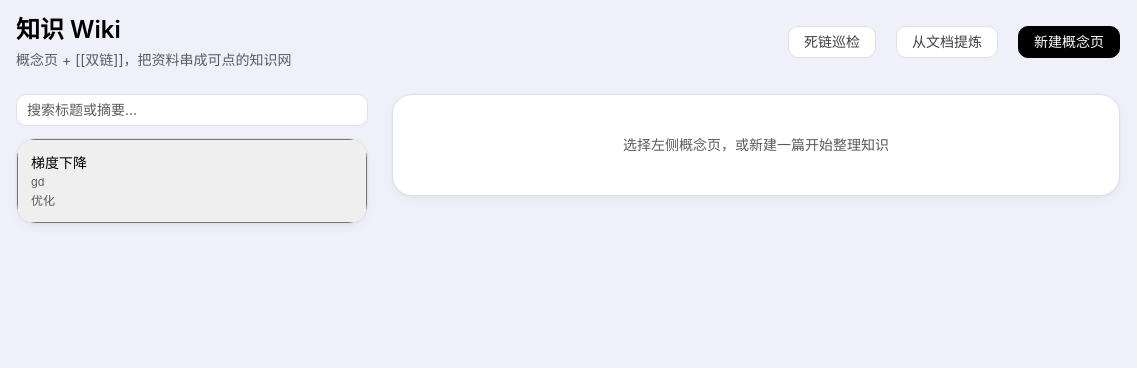
Test: WikiView 5.1 › 渲染列表并打开详情，显示死链
What coordinates should you click on to do the following:
click the button with test id "wiki-item-gd"
I would click on:
 (59, 162)
Its box is [17,139,367,223].
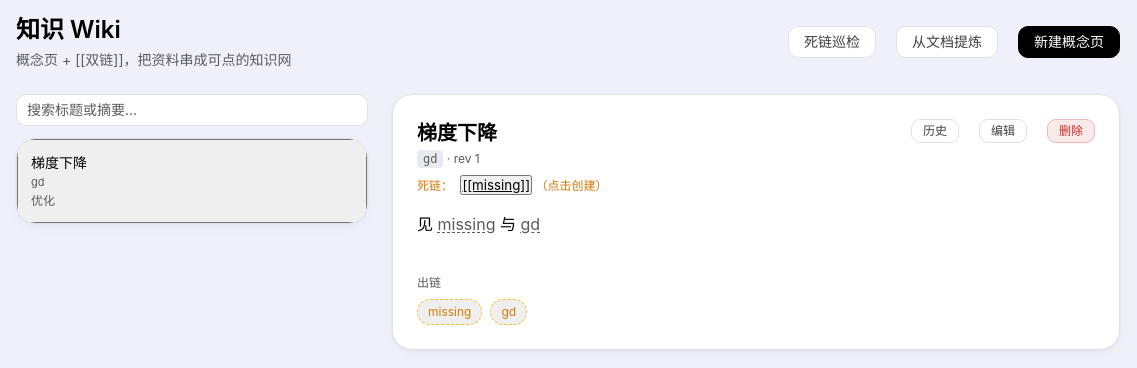
Expected: the text "梯度下降" is shown, [31,154,87,171]
Now the text "[ [missing]]" is shown, box [460,175,532,195]
